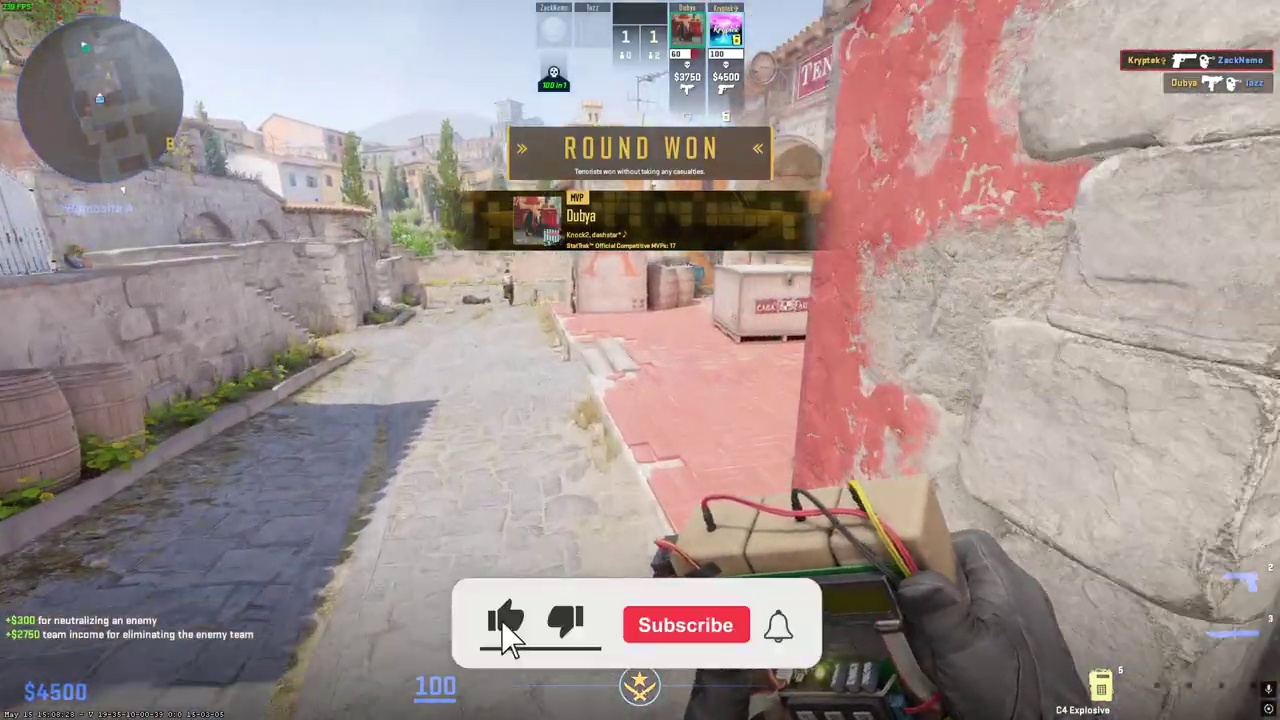Terrorist: (501, 269, 514, 306)
